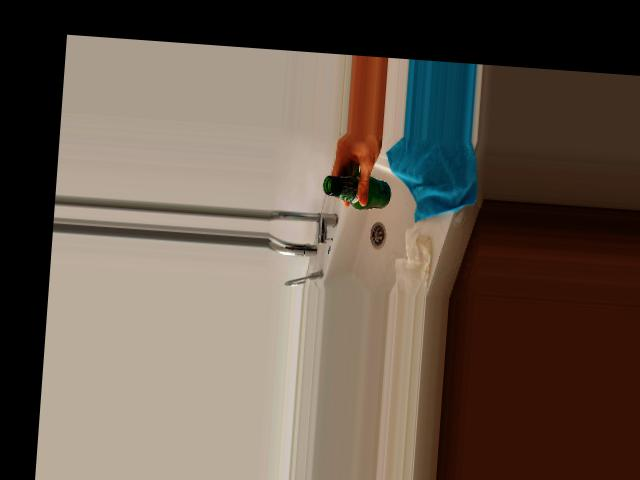beer: (322, 170, 393, 211)
